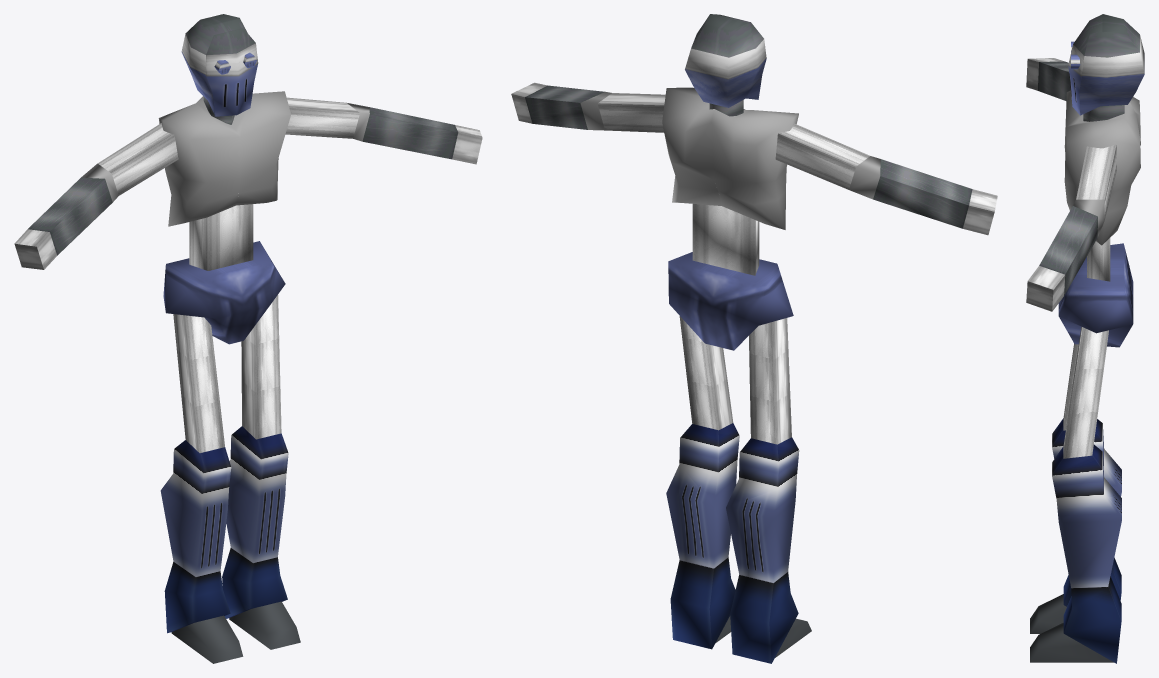
3 renders of one model, left to right at view 1: azimuth 30°, elevation 25°; view 2: azimuth 150°, elevation 25°; view 3: azimuth 270°, elevation 25°, orthographic. The views are drawn at different scales.
Parts seen in each view (by area): view 1: Lower_Leg, Torso_Front, Upper_Leg, Pelvis, Forearms, Biceps&Elbows, Feet, Spine, Face, Torso_Back, Hands, Helmet_Top (+1 smaller); view 2: Lower_Leg, Torso_Back, Upper_Leg, Pelvis, Biceps&Elbows, Forearms, Spine, Head, Helmet_Top, Hands; view 3: Lower_Leg, Pelvis, Upper_Leg, Forearms, Torso_Back, Head, Feet, Biceps&Elbows, Helmet_Top, Torso_Front, Hands, Spine (+2 smaller).
Part boxes in pixels (x1,y1,x2,y2): Lower_Leg: (160,426,288,633); Torso_Front: (163,91,291,222); Upper_Leg: (173,295,281,452); Pelvis: (163,241,285,344); Forearms: (28,107,458,255); Biceps&Elbows: (81,97,369,202); Feet: (171,601,300,663); Spine: (189,193,253,270); Face: (206,43,258,116); Torso_Back: (158,91,283,226); Hands: (14,125,482,269); Helmet_Top: (185,14,255,55); Lower_Leg: (666,423,799,663); Torso_Back: (662,88,793,229); Upper_Leg: (679,316,791,444); Pelvis: (668,252,793,350); Biceps&Elbows: (580,92,880,199); Forearms: (525,85,972,228); Spine: (692,204,759,275); Head: (685,39,766,107); Helmet_Top: (691,14,763,57); Hands: (511,82,997,235); Lower_Leg: (1052,418,1121,663); Pelvis: (1058,243,1133,347); Upper_Leg: (1063,326,1108,458); Forearms: (1037,61,1097,295); Torso_Back: (1076,97,1140,245); Head: (1079,35,1144,115); Feet: (1030,594,1113,662); Biceps&Elbows: (1073,144,1116,237); Helmet_Top: (1073,14,1139,57); Torso_Front: (1064,90,1099,210); Hands: (1026,58,1065,311); Spine: (1087,238,1110,281).
Size of the model in its own units: 52.57 by 65.29 by 11.34.
